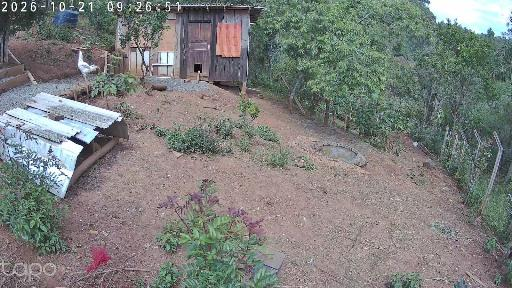frango: (77, 52, 97, 82)
